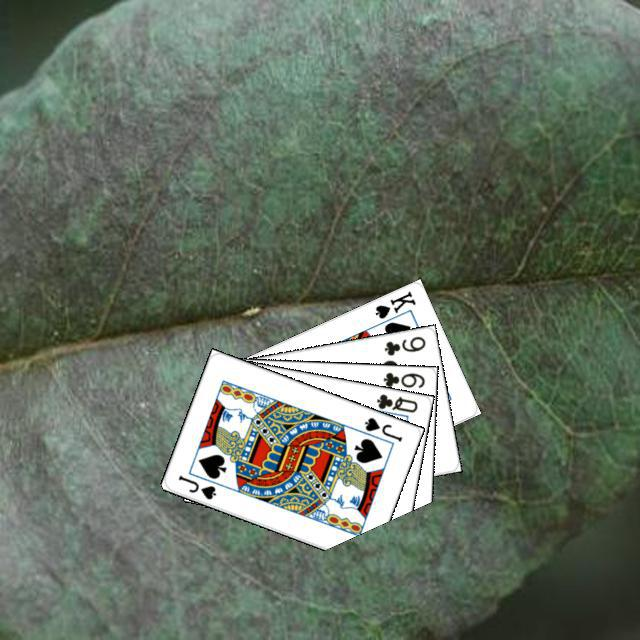6c: (378, 367, 426, 390)
9c: (379, 331, 427, 357)
Js: (359, 412, 404, 443), (173, 470, 218, 501)
Ks: (370, 286, 418, 321)
Qc: (366, 389, 419, 421)
